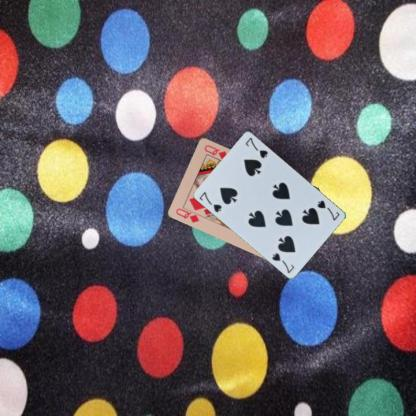7s: (197, 189, 224, 214), (315, 197, 341, 222)
Qd: (174, 204, 204, 223)
